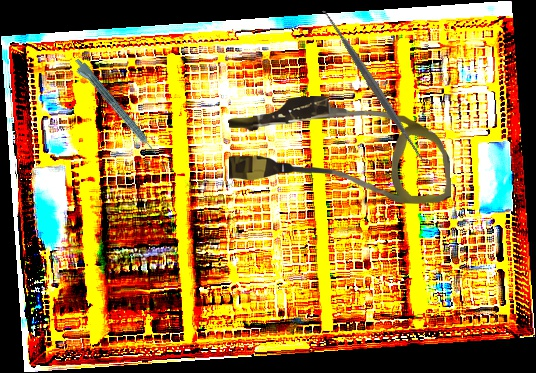Cannula: (228, 94, 451, 207)
Handpiece: (69, 56, 160, 160)
Spatula Surgical: (316, 3, 434, 170)
